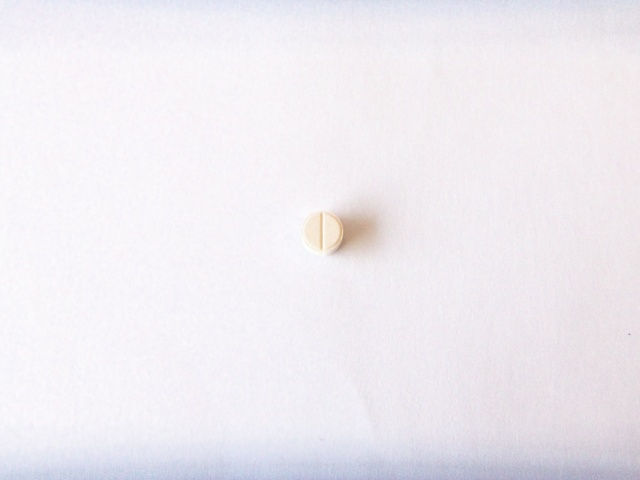|: (315, 208, 329, 255)
